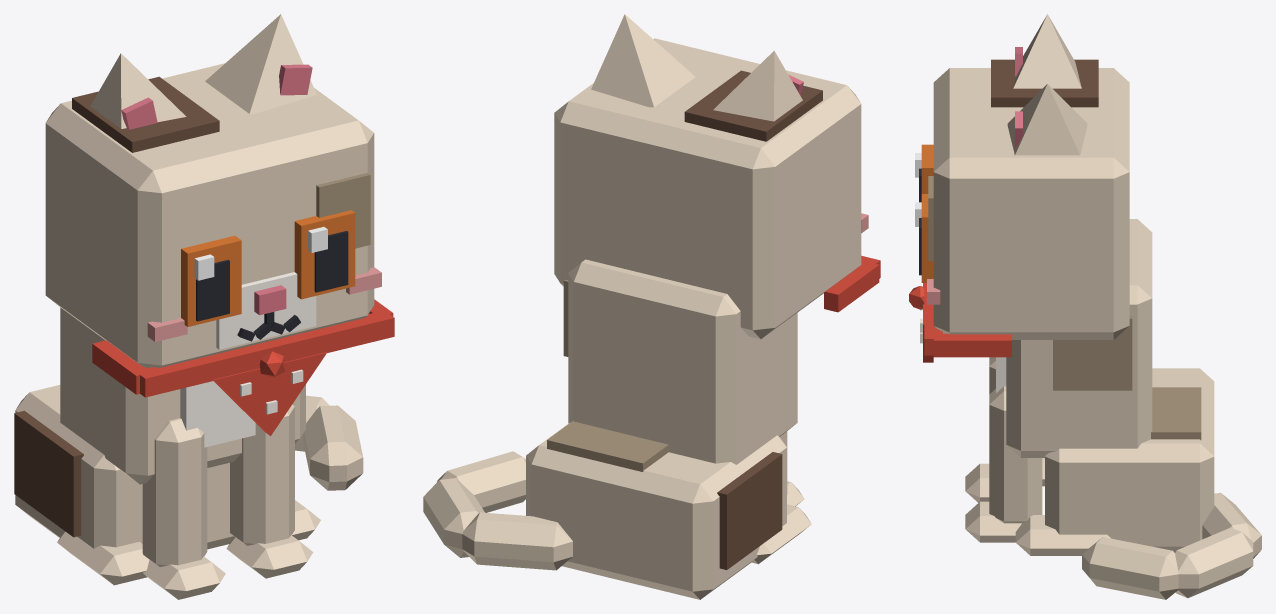
Rendered from CatCafe_Cat_Dusty_Sit.glb.
3 renders of one model, left to right at view 1: azimuth 30°, elevation 25°; view 2: azimuth 150°, elevation 25°; view 3: azimuth 270°, elevation 25°, orthographic. The views are drawn at different scales.
Visible parts, largest first — view 1: CatCafe_Cat_Dusty_Sit_Head, CatCafe_Cat_Dusty_Sit_Body, CatCafe_Cat_Dusty_Sit_Prop, CatCafe_Cat_Dusty_Sit_LegF2, CatCafe_Cat_Dusty_Sit_LegF1, CatCafe_Cat_Dusty_Sit_EarL, CatCafe_Cat_Dusty_Sit_Eye2, CatCafe_Cat_Dusty_Sit_Eye1, CatCafe_Cat_Dusty_Sit_Tail, CatCafe_Cat_Dusty_Sit_EarR; view 2: CatCafe_Cat_Dusty_Sit_Body, CatCafe_Cat_Dusty_Sit_Head, CatCafe_Cat_Dusty_Sit_Tail, CatCafe_Cat_Dusty_Sit_EarL, CatCafe_Cat_Dusty_Sit_EarR, CatCafe_Cat_Dusty_Sit_Prop; view 3: CatCafe_Cat_Dusty_Sit_Head, CatCafe_Cat_Dusty_Sit_Body, CatCafe_Cat_Dusty_Sit_Tail, CatCafe_Cat_Dusty_Sit_LegF1, CatCafe_Cat_Dusty_Sit_EarL, CatCafe_Cat_Dusty_Sit_EarR, CatCafe_Cat_Dusty_Sit_Prop, CatCafe_Cat_Dusty_Sit_LegF2, CatCafe_Cat_Dusty_Sit_Eye1, CatCafe_Cat_Dusty_Sit_Eye2.
Part boxes in pixels (<box>): CatCafe_Cat_Dusty_Sit_Head: <box>45,63,381,368</box>; CatCafe_Cat_Dusty_Sit_Body: <box>14,307,320,585</box>; CatCafe_Cat_Dusty_Sit_Prop: <box>92,299,394,435</box>; CatCafe_Cat_Dusty_Sit_LegF2: <box>142,418,225,599</box>; CatCafe_Cat_Dusty_Sit_LegF1: <box>226,404,313,578</box>; CatCafe_Cat_Dusty_Sit_EarL: <box>205,14,316,113</box>; CatCafe_Cat_Dusty_Sit_Eye2: <box>181,235,241,326</box>; CatCafe_Cat_Dusty_Sit_Eye1: <box>294,210,355,299</box>; CatCafe_Cat_Dusty_Sit_Tail: <box>295,395,363,490</box>; CatCafe_Cat_Dusty_Sit_EarR: <box>90,53,186,129</box>; CatCafe_Cat_Dusty_Sit_Body: <box>526,259,811,599</box>; CatCafe_Cat_Dusty_Sit_Head: <box>554,38,868,339</box>; CatCafe_Cat_Dusty_Sit_Tail: <box>423,451,572,570</box>; CatCafe_Cat_Dusty_Sit_EarL: <box>591,14,695,107</box>; CatCafe_Cat_Dusty_Sit_EarR: <box>713,50,803,121</box>; CatCafe_Cat_Dusty_Sit_Prop: <box>824,255,880,312</box>; CatCafe_Cat_Dusty_Sit_Head: <box>927,59,1129,339</box>; CatCafe_Cat_Dusty_Sit_Body: <box>996,219,1214,555</box>; CatCafe_Cat_Dusty_Sit_Tail: <box>1082,492,1261,599</box>; CatCafe_Cat_Dusty_Sit_LegF1: <box>965,386,1042,542</box>; CatCafe_Cat_Dusty_Sit_EarL: <box>1007,84,1087,155</box>; CatCafe_Cat_Dusty_Sit_EarR: <box>1013,14,1081,88</box>; CatCafe_Cat_Dusty_Sit_Prop: <box>909,283,1011,362</box>; CatCafe_Cat_Dusty_Sit_LegF2: <box>965,357,995,502</box>; CatCafe_Cat_Dusty_Sit_Eye1: <box>915,194,933,282</box>; CatCafe_Cat_Dusty_Sit_Eye2: <box>915,144,933,202</box>.
Size of the model in its own units: 1.28 by 1.85 by 1.26.
1 material, 1 textured.
